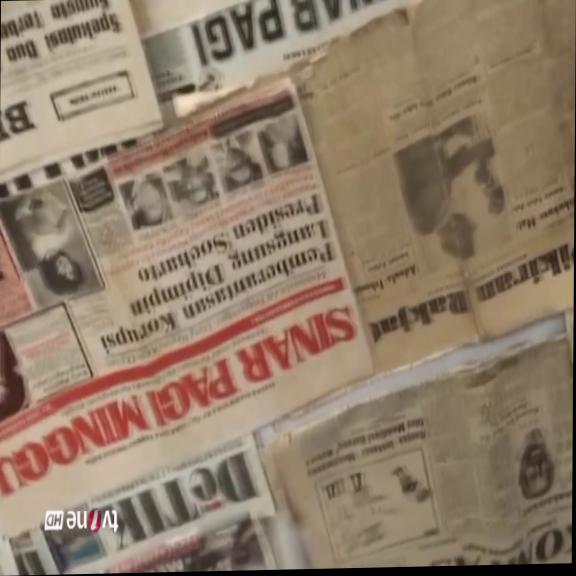Kertas: (0, 74, 371, 542), (287, 0, 572, 376), (259, 317, 571, 570), (6, 430, 281, 576), (488, 79, 573, 240)
